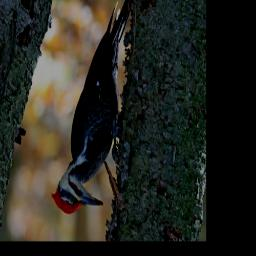Woodpecker: (50, 0, 134, 216)
